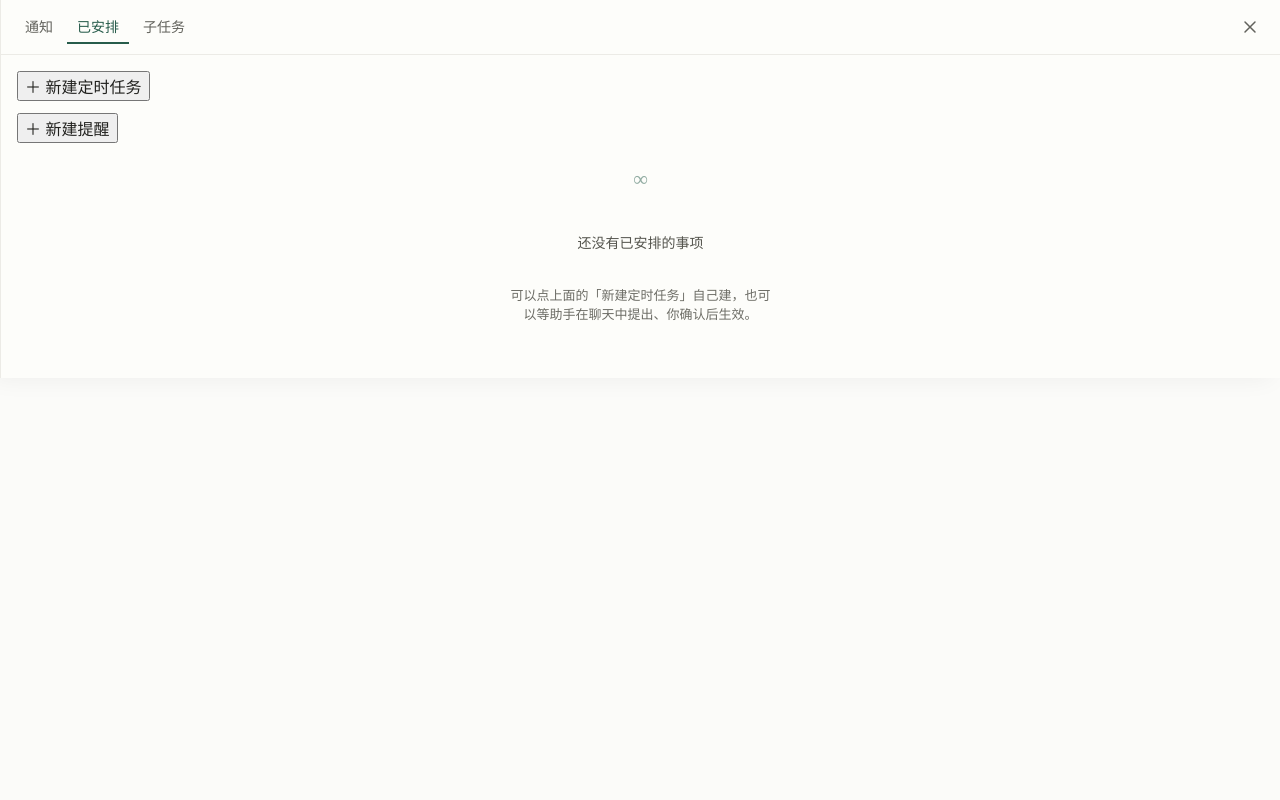
Test case: T6 ④：面板的 conversationId/turnId 来自当前会话的运行时快照 › 会话还没有任何一轮（activeRunId 为空）→ 提交禁用、不发请求
The image size is (1280, 800).
Click the button with class "task-create-toggle" showing "＋ 新建定时任务". click: [83, 86]
box: left=17, top=71, right=150, bottom=101
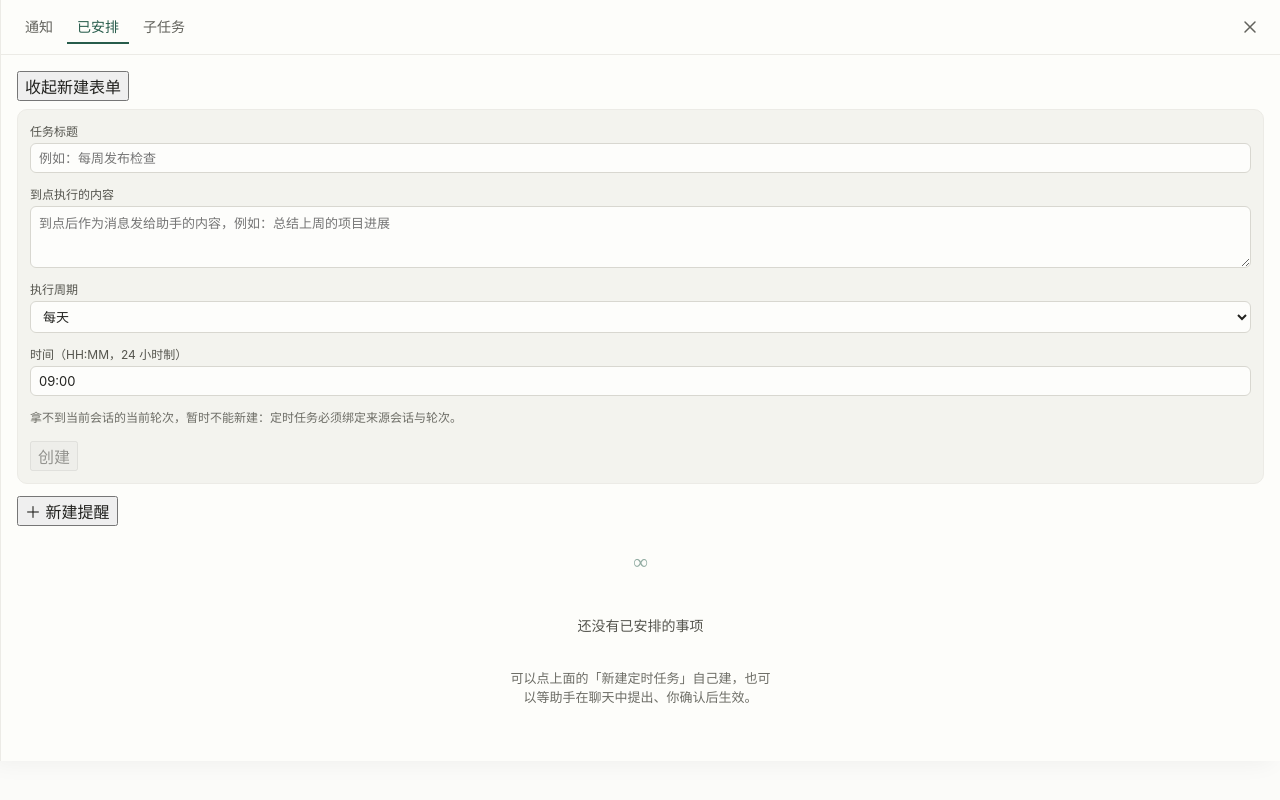
Now the submit button is disabled, box left=30, top=441, right=78, bottom=471
